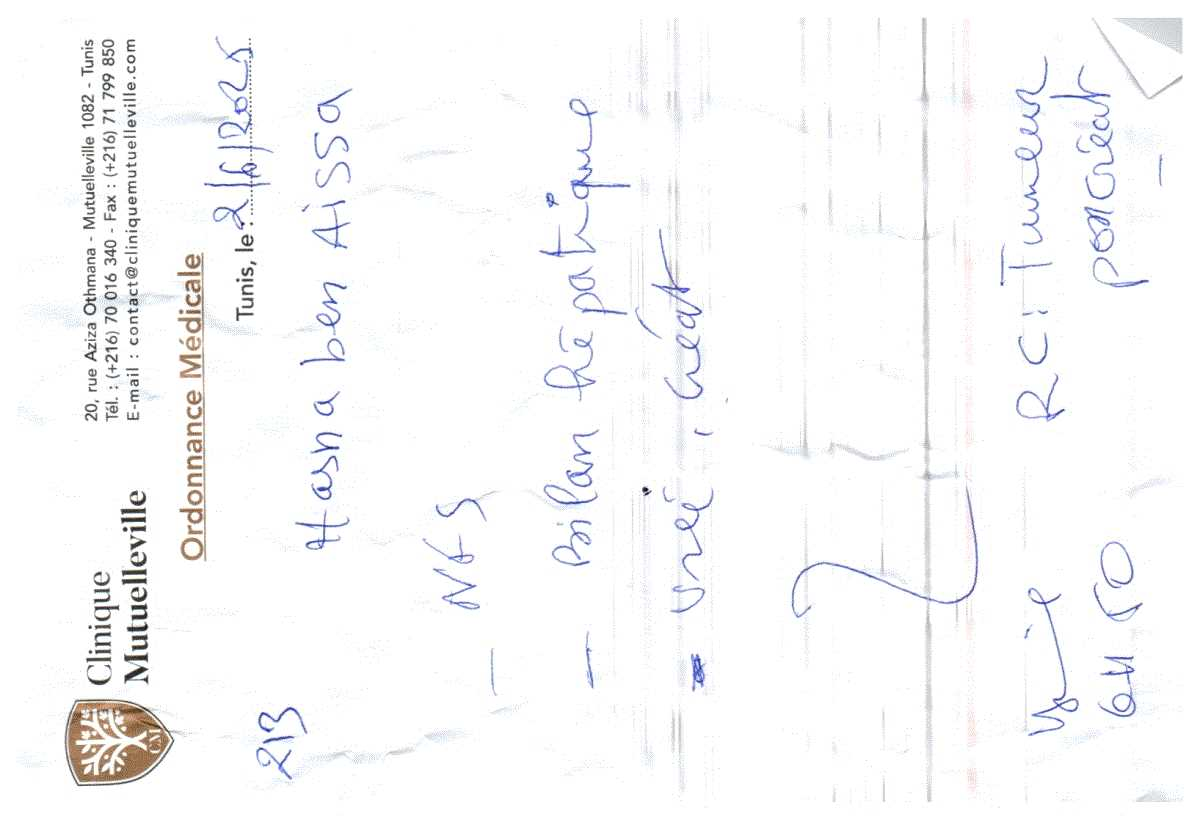zone_analyses: (416, 5, 1168, 727)
zone_date: (203, 22, 263, 227)
zone_patient: (259, 48, 390, 552)
zone_prescripteur: (63, 6, 153, 424)
